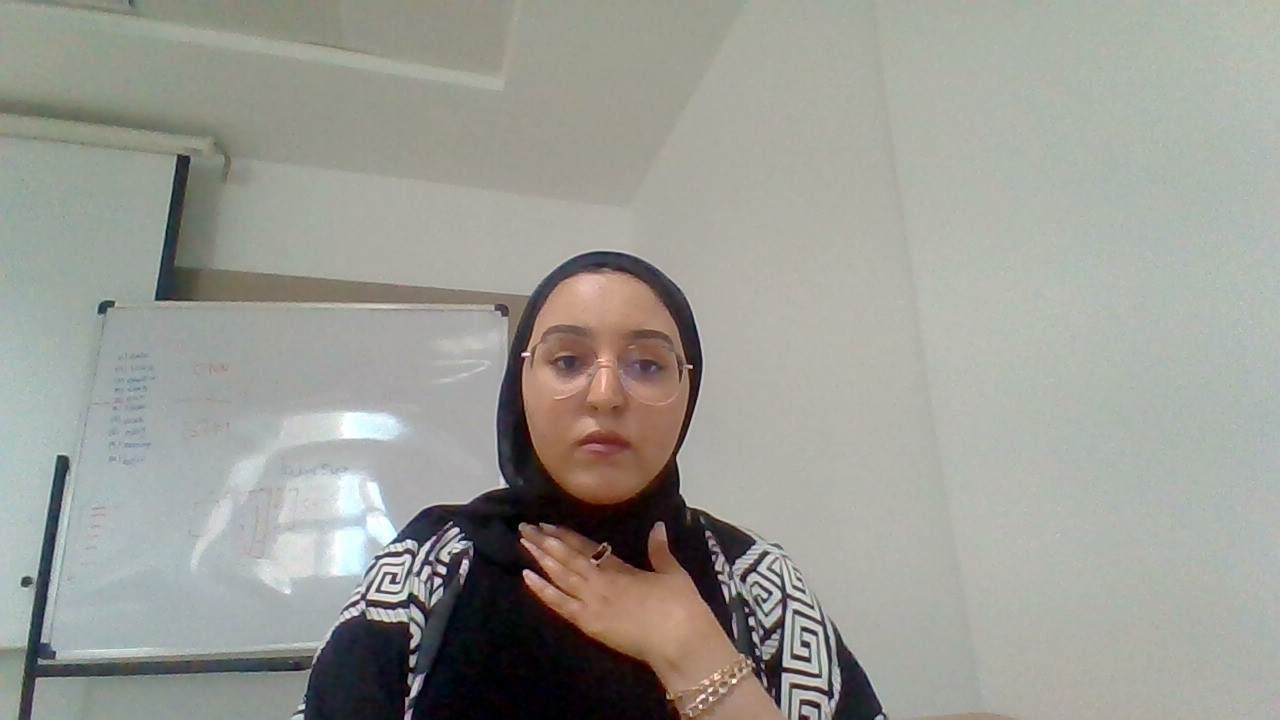please: (507, 504, 711, 660)
